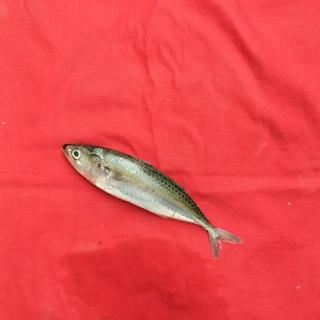Ikan: (59, 127, 253, 263)
